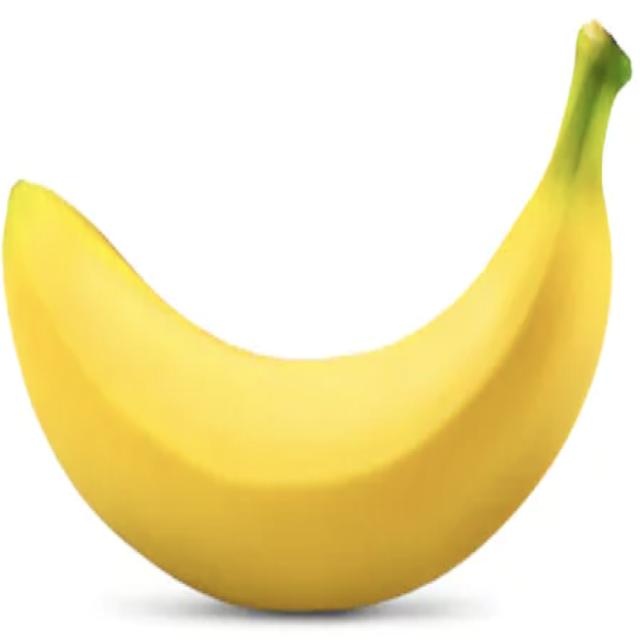fresh-banana: (1, 17, 632, 614)
